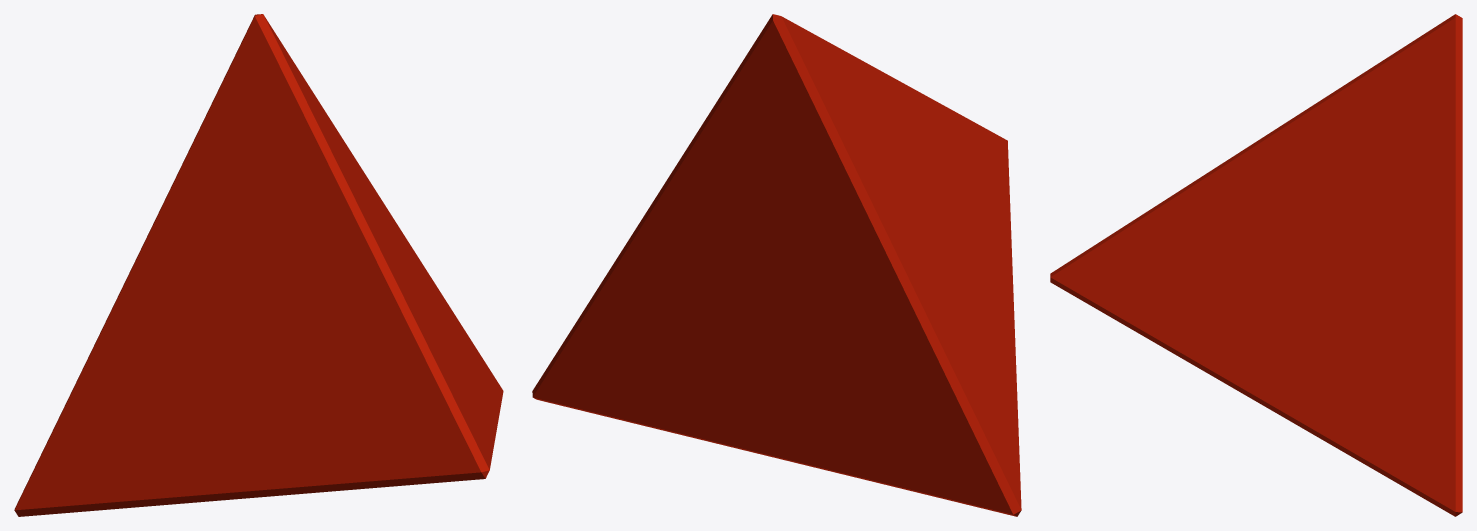
Rendered from TRY.obj.
3 renders of one model, left to right at view 1: azimuth 30°, elevation 25°; view 2: azimuth 150°, elevation 25°; view 3: azimuth 270°, elevation 25°, orthographic. The views are drawn at different scales.
Parts seen in each view (by area): view 1: TRY.001; view 2: TRY.001; view 3: TRY.001.
Boxes of the visible parts, bbox=[...] form: TRY.001: bbox=[14, 14, 503, 516]; TRY.001: bbox=[532, 14, 1021, 516]; TRY.001: bbox=[1050, 14, 1462, 516].
Bounding box in the file's own units: 0.9667 × 0.8372 × 0.7893.
Materials: 1 (1 with a texture image).
